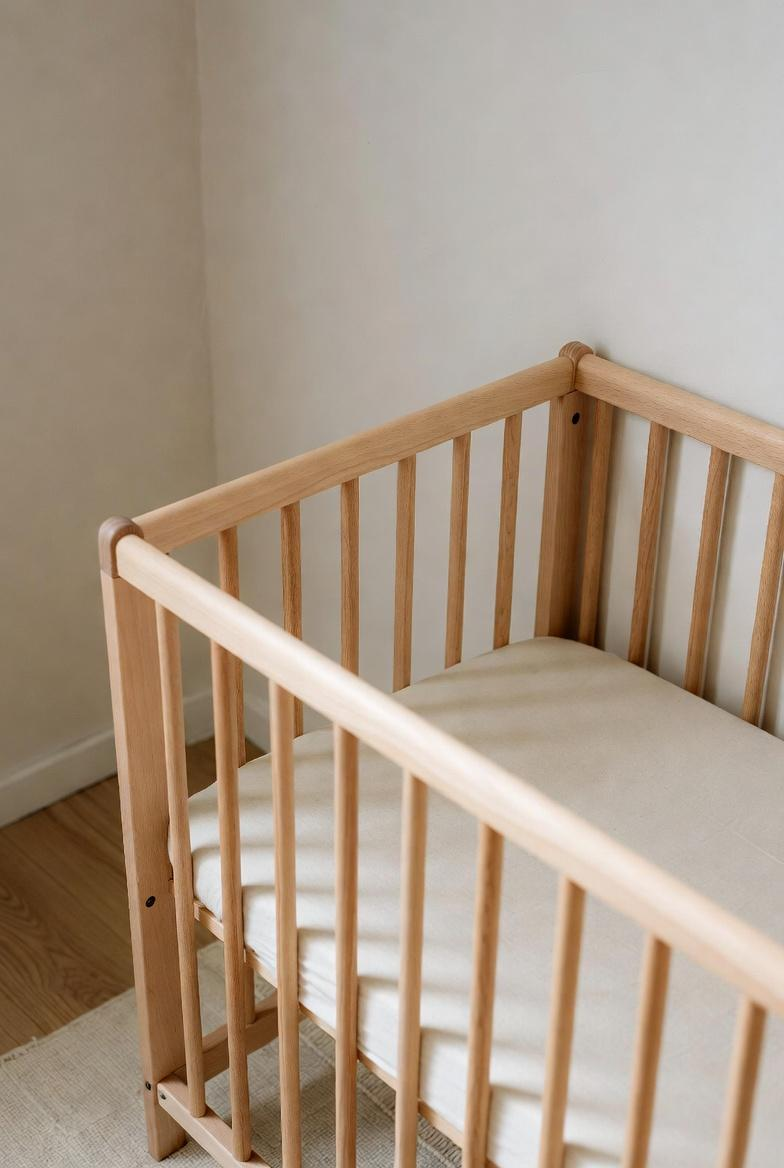crib: (100, 343, 784, 1168)
